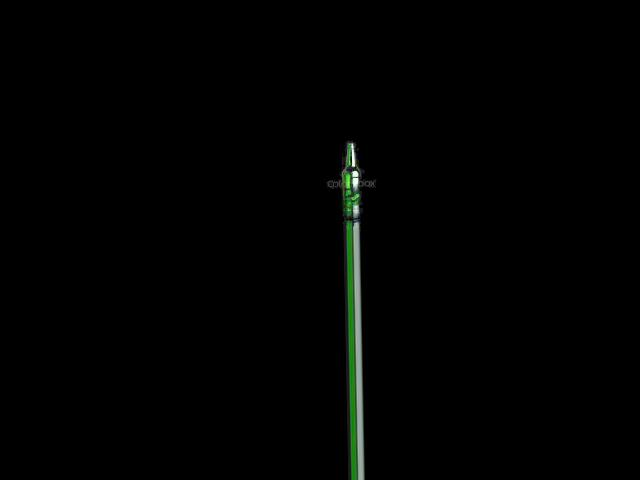beer: (341, 143, 359, 212)
